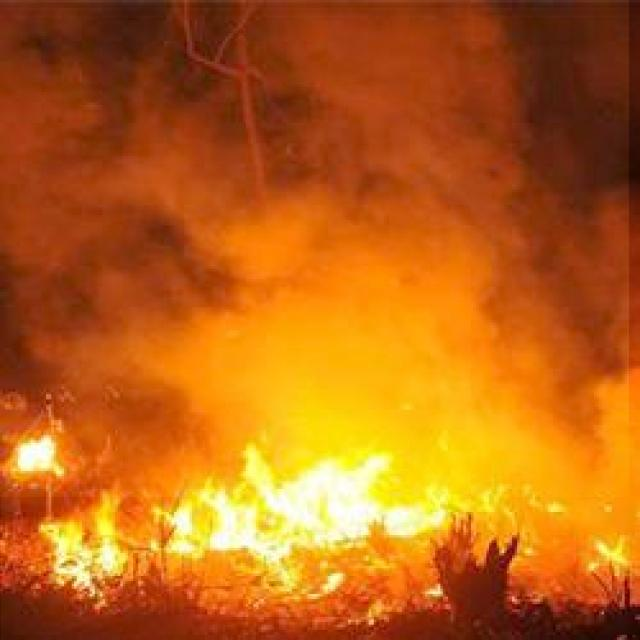Fire: (1, 422, 640, 640)
Smoke: (0, 0, 629, 497)
